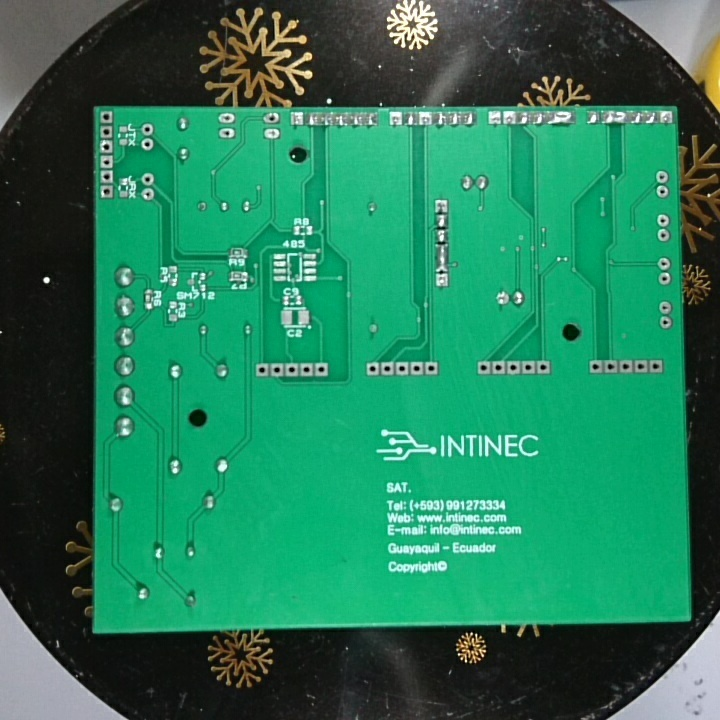F: (216, 111, 239, 126), (656, 269, 673, 289), (98, 135, 115, 155), (655, 167, 672, 185), (659, 313, 677, 330), (98, 167, 115, 185), (218, 126, 238, 141), (389, 109, 404, 129), (139, 186, 156, 203), (139, 169, 156, 186), (658, 109, 675, 126), (648, 358, 664, 376), (379, 360, 395, 378), (98, 184, 116, 200), (604, 358, 619, 377), (434, 272, 453, 287), (364, 360, 379, 379), (654, 212, 671, 228), (656, 299, 673, 315), (268, 362, 284, 379), (140, 121, 156, 138), (98, 109, 115, 125), (99, 123, 115, 140), (655, 227, 670, 245), (263, 111, 281, 126), (486, 110, 502, 126), (657, 254, 672, 271), (433, 197, 450, 212), (395, 360, 410, 377), (254, 362, 269, 379), (536, 359, 551, 375), (424, 361, 439, 377), (314, 362, 329, 378), (195, 198, 207, 218), (140, 136, 155, 152), (656, 183, 670, 200), (633, 358, 647, 375), (619, 358, 633, 375), (588, 358, 602, 375), (410, 361, 424, 378), (284, 360, 297, 378), (476, 360, 491, 375), (495, 291, 510, 306), (289, 111, 304, 126), (299, 362, 313, 378), (101, 152, 114, 169), (490, 360, 504, 375), (262, 127, 276, 142), (501, 111, 515, 126), (419, 112, 432, 128), (367, 320, 381, 334), (521, 360, 534, 375), (507, 358, 518, 375)
P: (546, 109, 574, 126), (433, 244, 450, 271), (601, 109, 628, 126)
